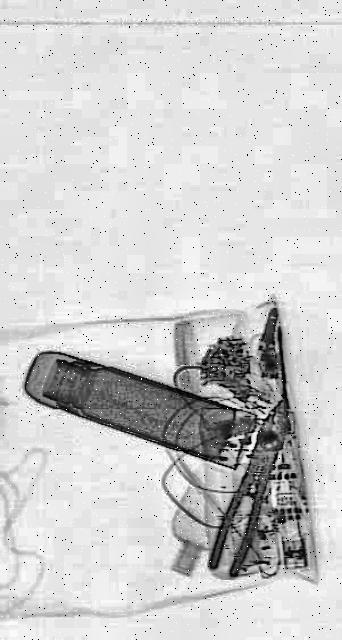Pliers: (204, 381, 298, 593)
